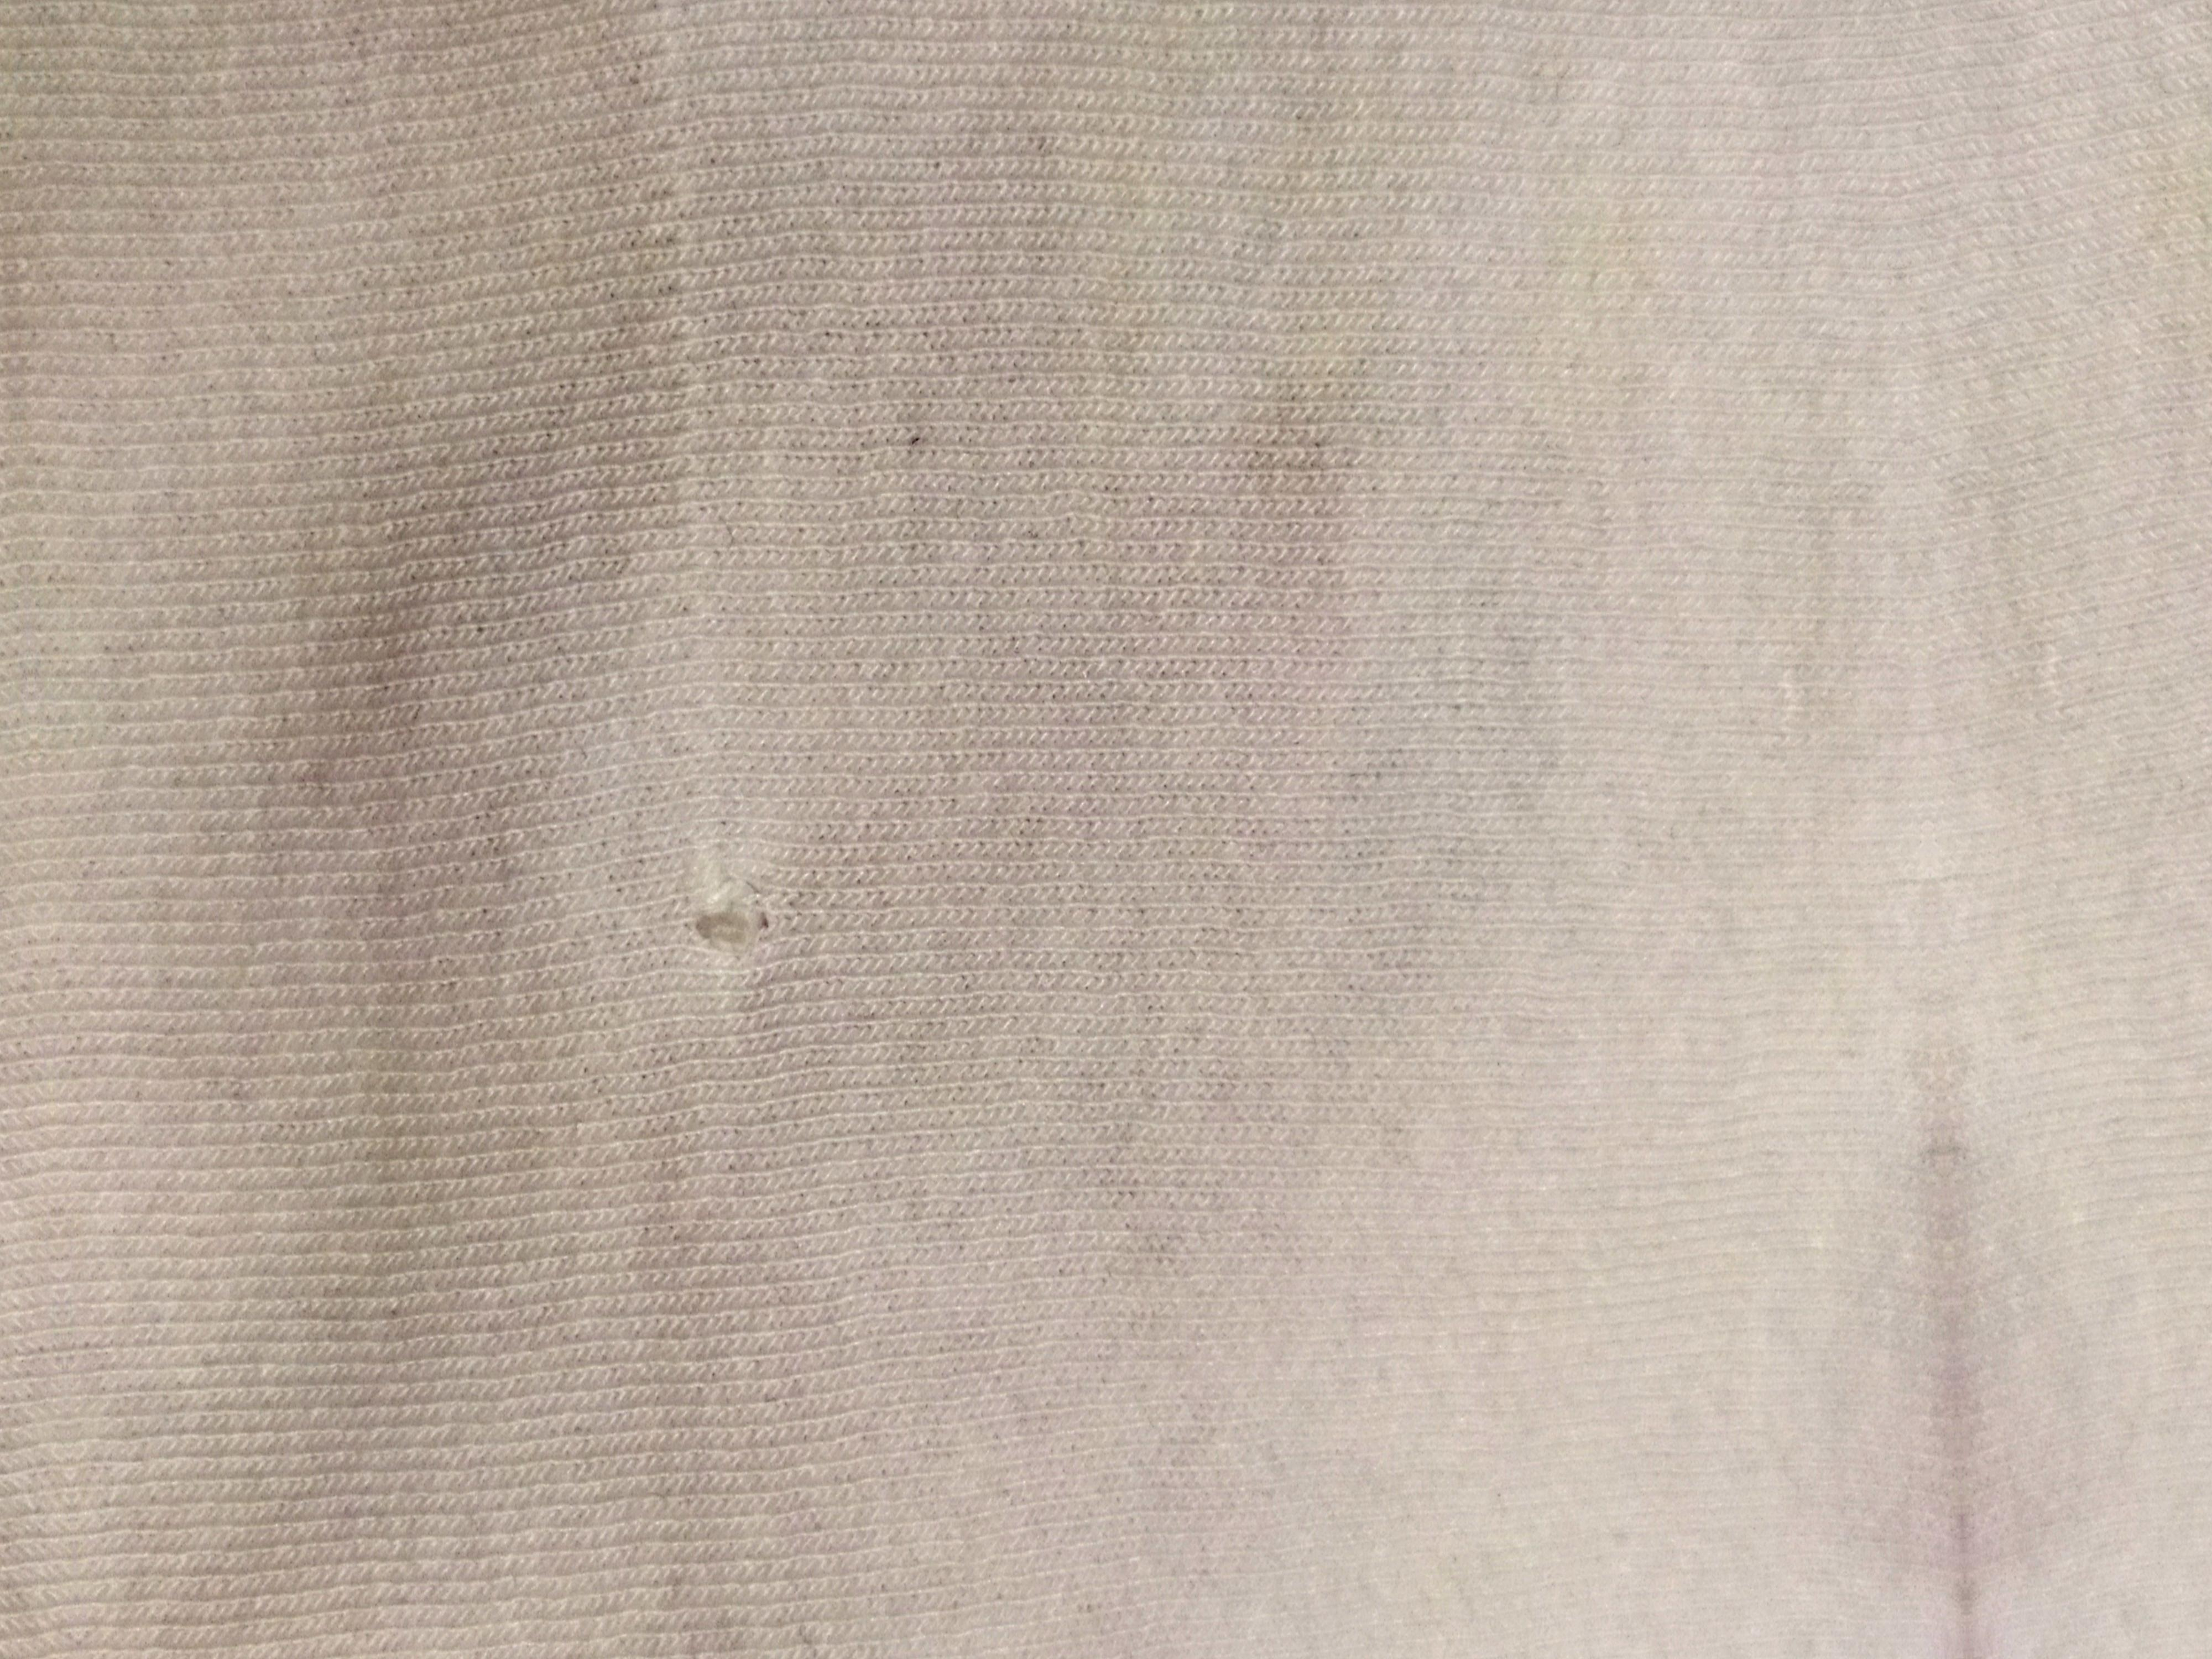knot: (681, 885, 803, 979)
